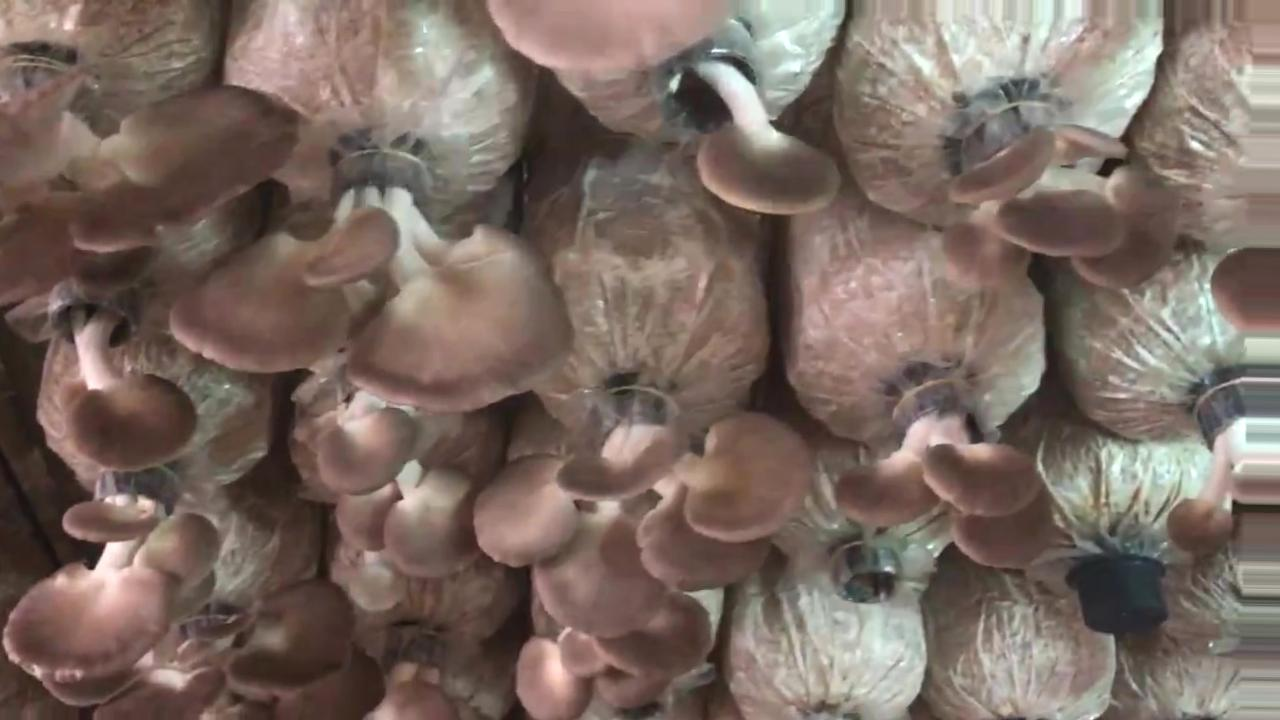nam: (174, 143, 570, 412), (472, 393, 808, 639), (1, 48, 299, 302), (8, 474, 220, 704), (940, 89, 1172, 290), (45, 589, 389, 720), (836, 374, 1053, 570), (657, 18, 842, 215), (48, 279, 196, 467), (516, 596, 712, 717), (1171, 374, 1279, 550), (488, 1, 734, 73), (338, 457, 481, 577), (316, 413, 413, 495), (1211, 248, 1280, 336)
